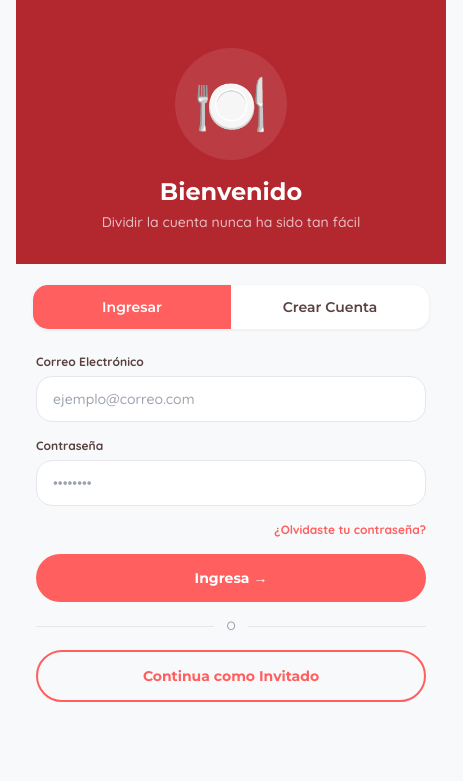
Test: LoginPage › shows error message when sign in fails
Type "test@test.com" into the field with placeholder "ejemplo@correo.com" at (231,399), box [36, 376, 426, 422]
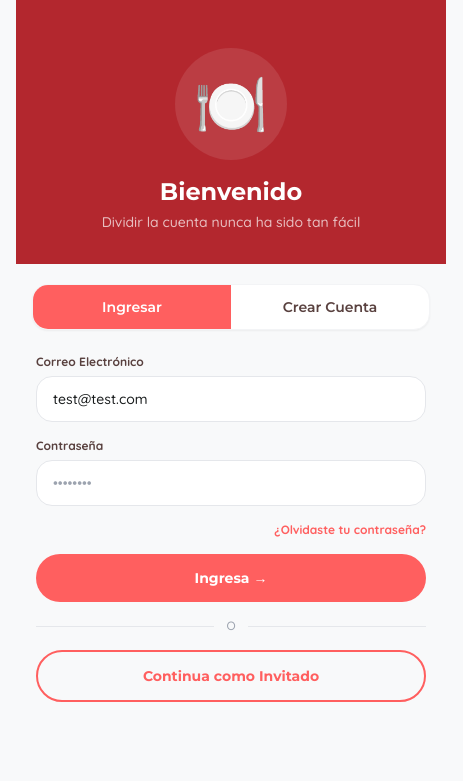
Type "wrongpass" into the password field with placeholder "••••••••" at (231,483), box [36, 460, 426, 506]
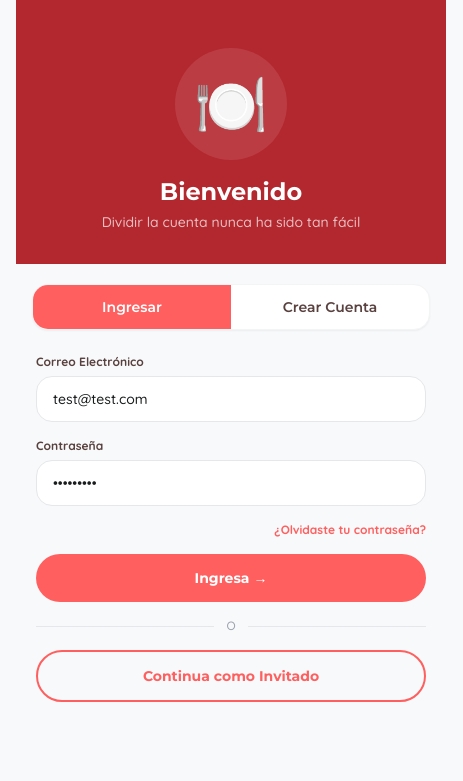
Click the button "Ingresa →" at (231,578), box [36, 554, 426, 602]
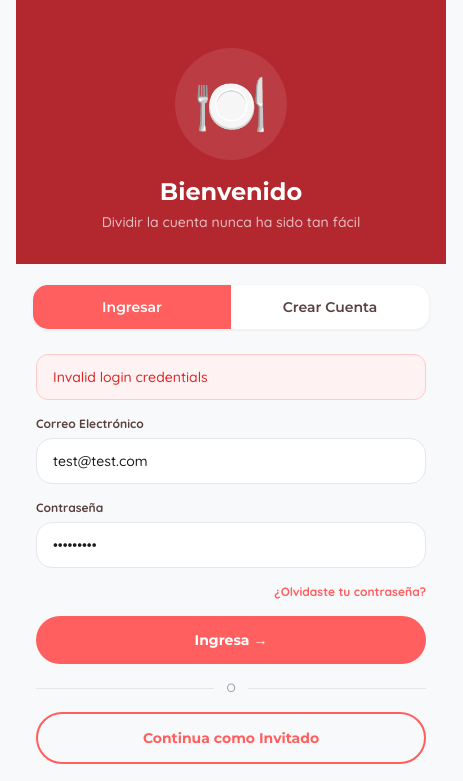
Check: the text "Invalid login credentials" is shown, box [36, 354, 426, 400]
